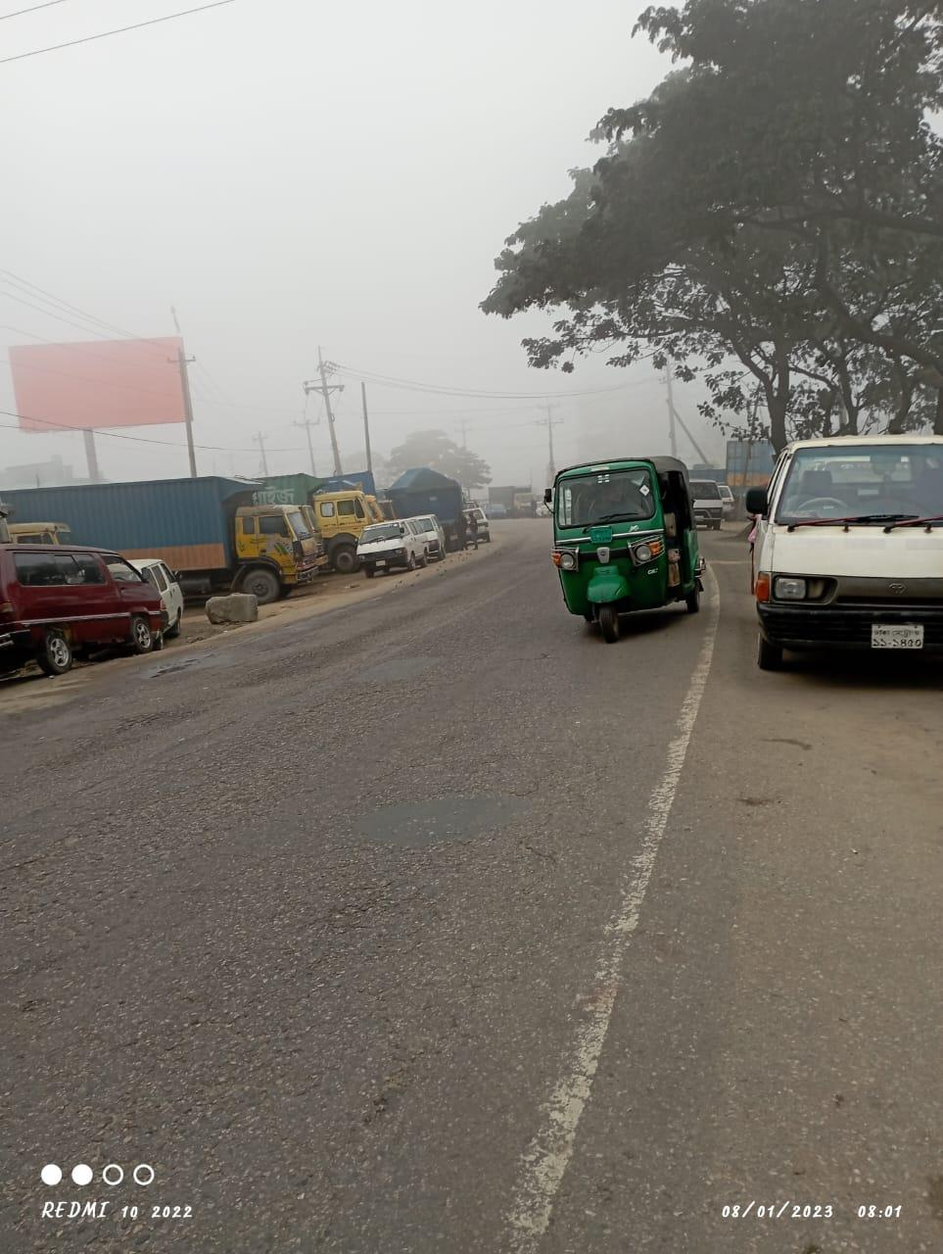Car: (756, 416, 941, 699), (8, 528, 172, 675), (353, 517, 436, 572)
Truck: (28, 477, 317, 595), (302, 471, 390, 554)
